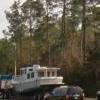Boat: (6, 63, 70, 94)
